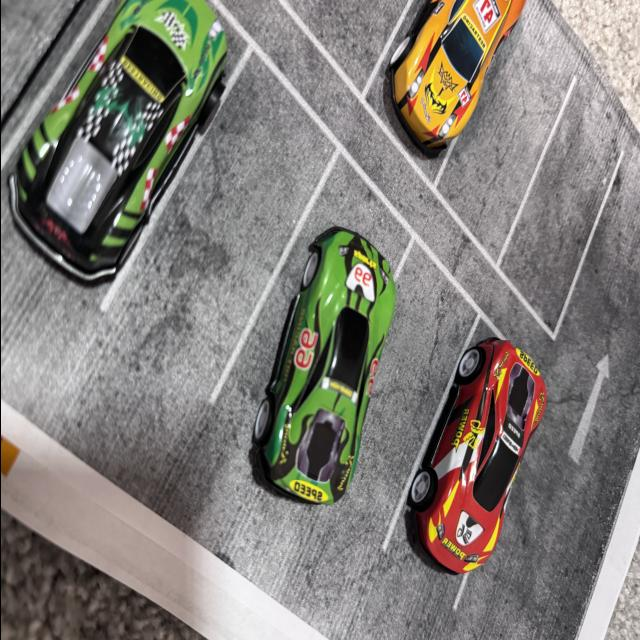car: (58, 0, 220, 420), (412, 323, 592, 617), (260, 263, 384, 528), (371, 0, 537, 121)
